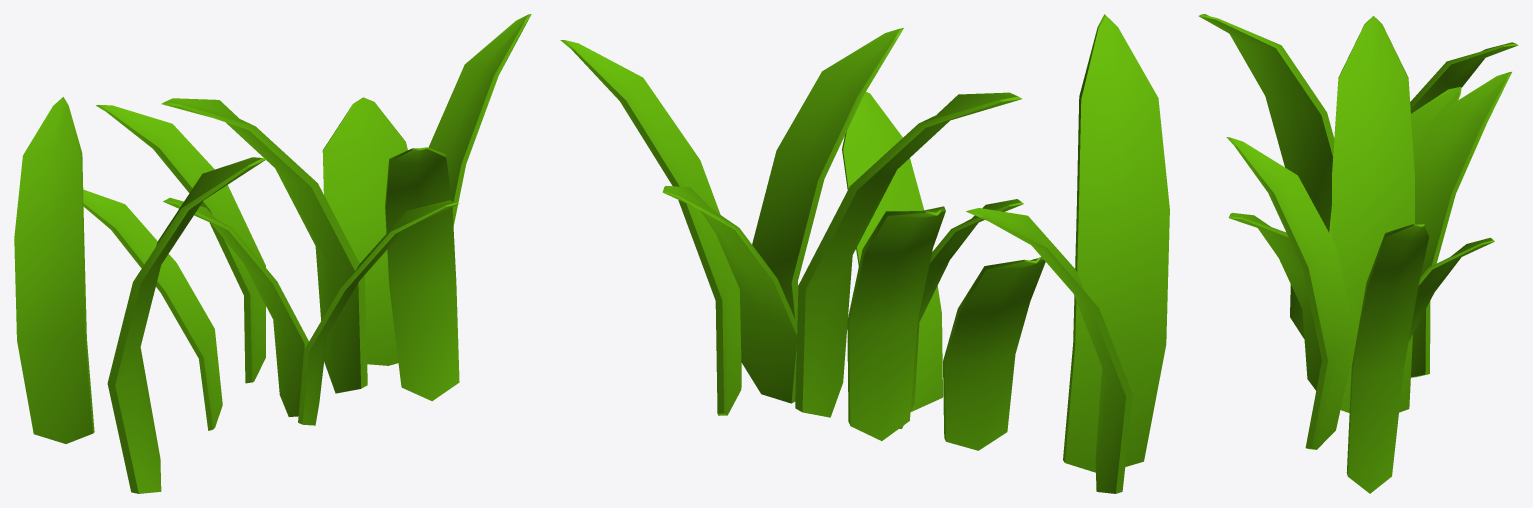
The model's file is PASTO3.fbx.
The picture shows the model from 3 angles, left to right: view 1: azimuth 30°, elevation 25°; view 2: azimuth 150°, elevation 25°; view 3: azimuth 270°, elevation 25°; orthographic projection. The views are drawn at different scales.
Parts seen in each view (by area): view 1: grass3, grass2, grass9, grass4, grass, grass6, grass11, grass7, grass10, grass8; view 2: grass, grass6, grass4, grass2, grass11, grass7, grass9, grass3, grass8, grass10; view 3: grass4, grass7, grass2, grass, grass6, grass8, grass3, grass9, grass11.
Boxes of the visible parts, x1,y1,x2,y2 form: grass3: (14,97,94,443); grass2: (385,147,459,401); grass9: (322,97,407,365); grass4: (161,98,367,393); grass: (107,157,266,493); grass6: (96,104,265,383); grass11: (83,189,222,430); grass7: (428,14,531,225); grass10: (163,197,308,416); grass8: (298,200,458,425); grass: (1063,14,1169,472); grass6: (847,206,945,440); grass4: (795,92,1021,417); grass2: (752,28,903,323); grass11: (943,257,1045,450); grass7: (560,40,741,415); grass9: (662,186,797,403); grass3: (966,208,1132,493); grass8: (842,92,942,411); grass10: (899,199,1023,428); grass4: (1332,16,1414,413); grass7: (1346,224,1429,493); grass2: (1226,137,1355,449); grass: (1198,14,1334,339); grass6: (1411,71,1511,377); grass8: (1228,212,1321,390); grass3: (1410,42,1518,113); grass9: (1408,237,1494,341); grass11: (1411,87,1461,162).
Bounding box in the file's own units: 0.775 × 0.5218 × 0.428.
